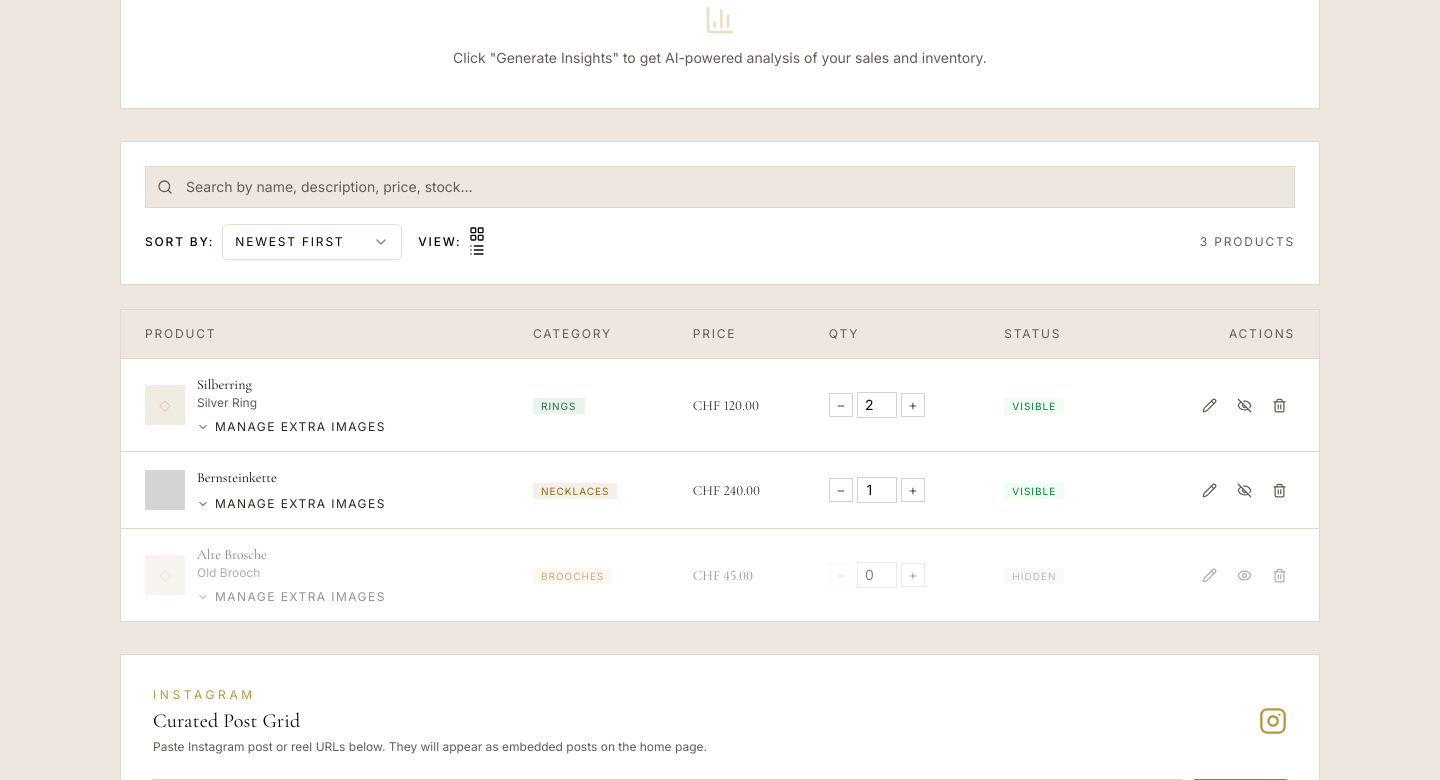
Test: Admin page — product row actions › commits a typed quantity on blur and rejects invalid input
The image size is (1440, 780).
(page scrolled)
Replace the text in the number field in the row of "Silver Ring" with "7" at (877, 405), box [857,392,897,418]
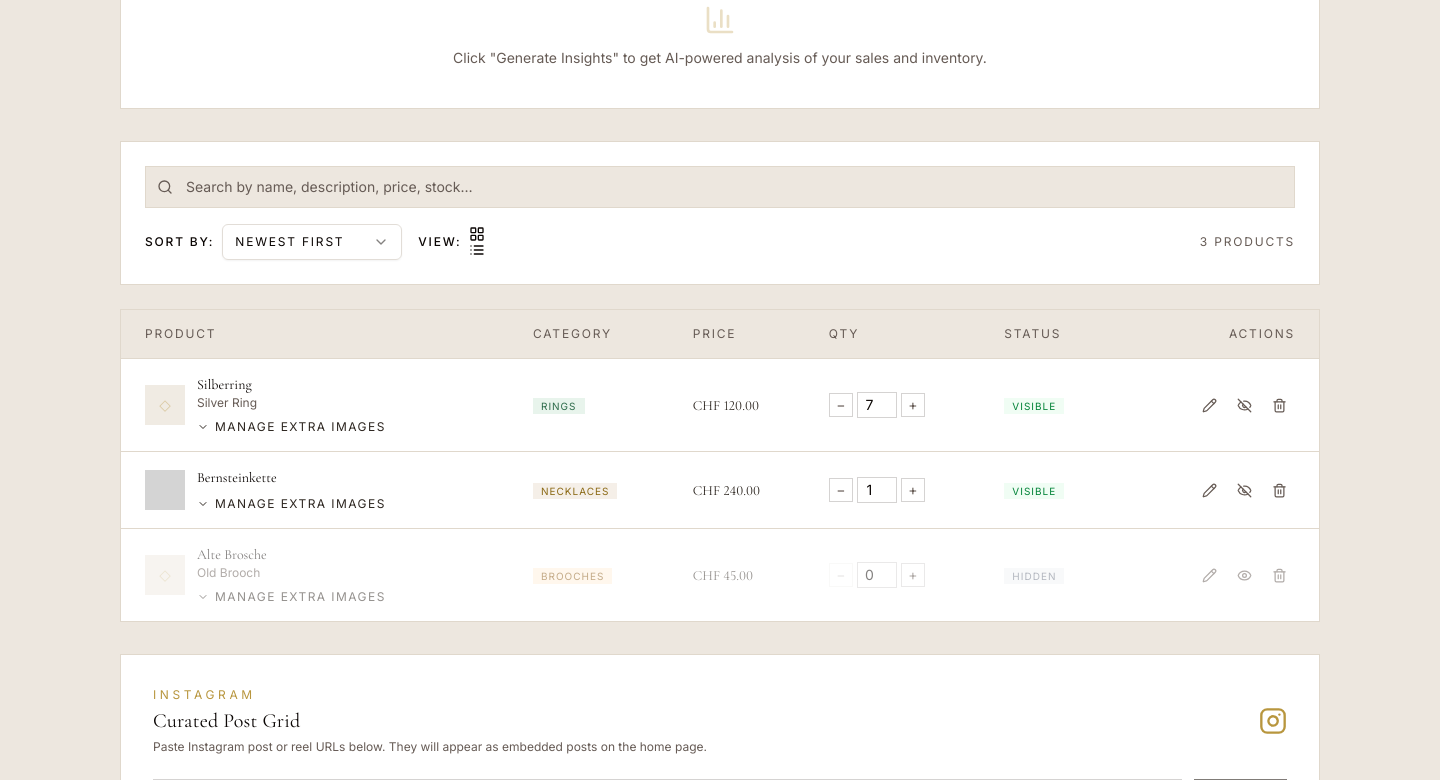
Replace the text in the number field in the row of "Silver Ring" with "-3" at (877, 405), box [857,392,897,418]
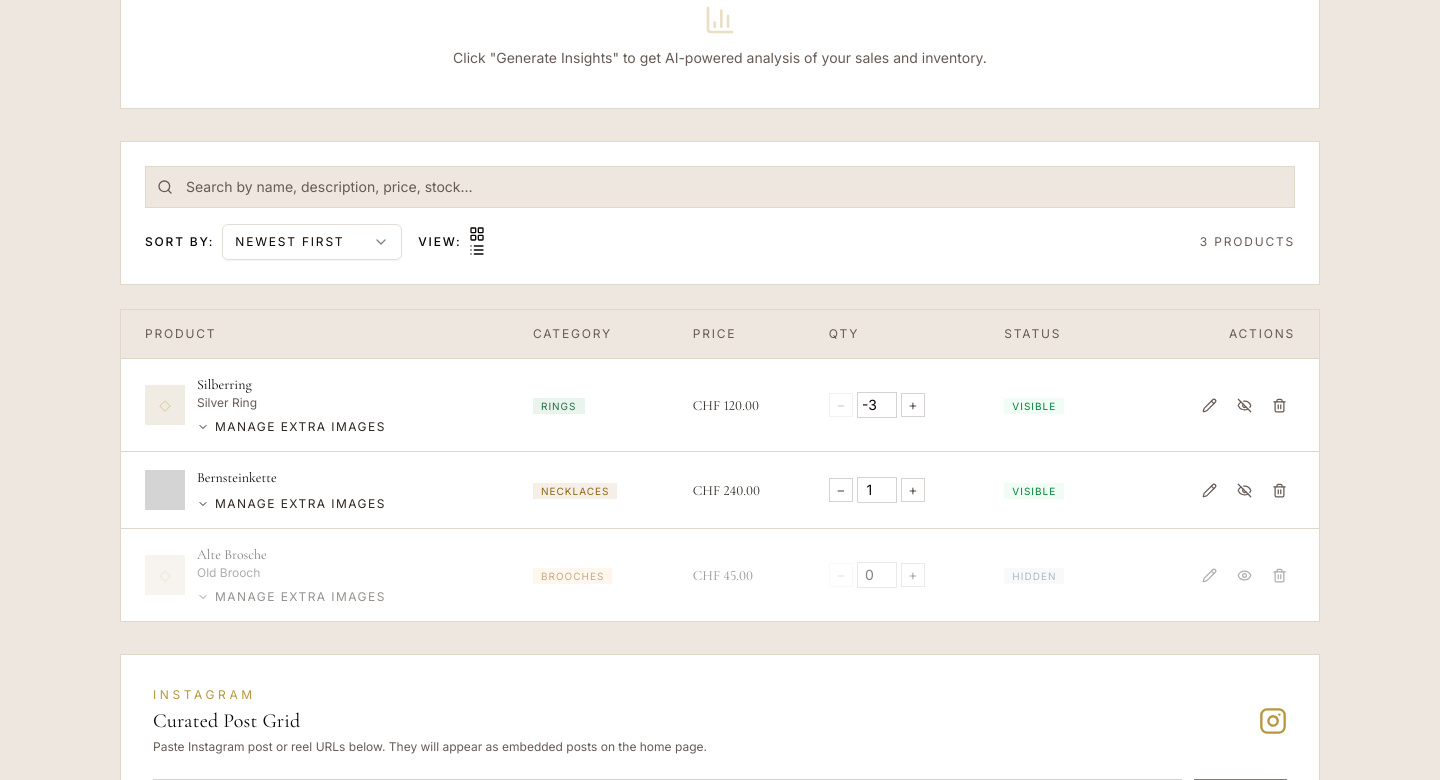
Leave the number field in the row of "Silver Ring", box [857,392,897,418]
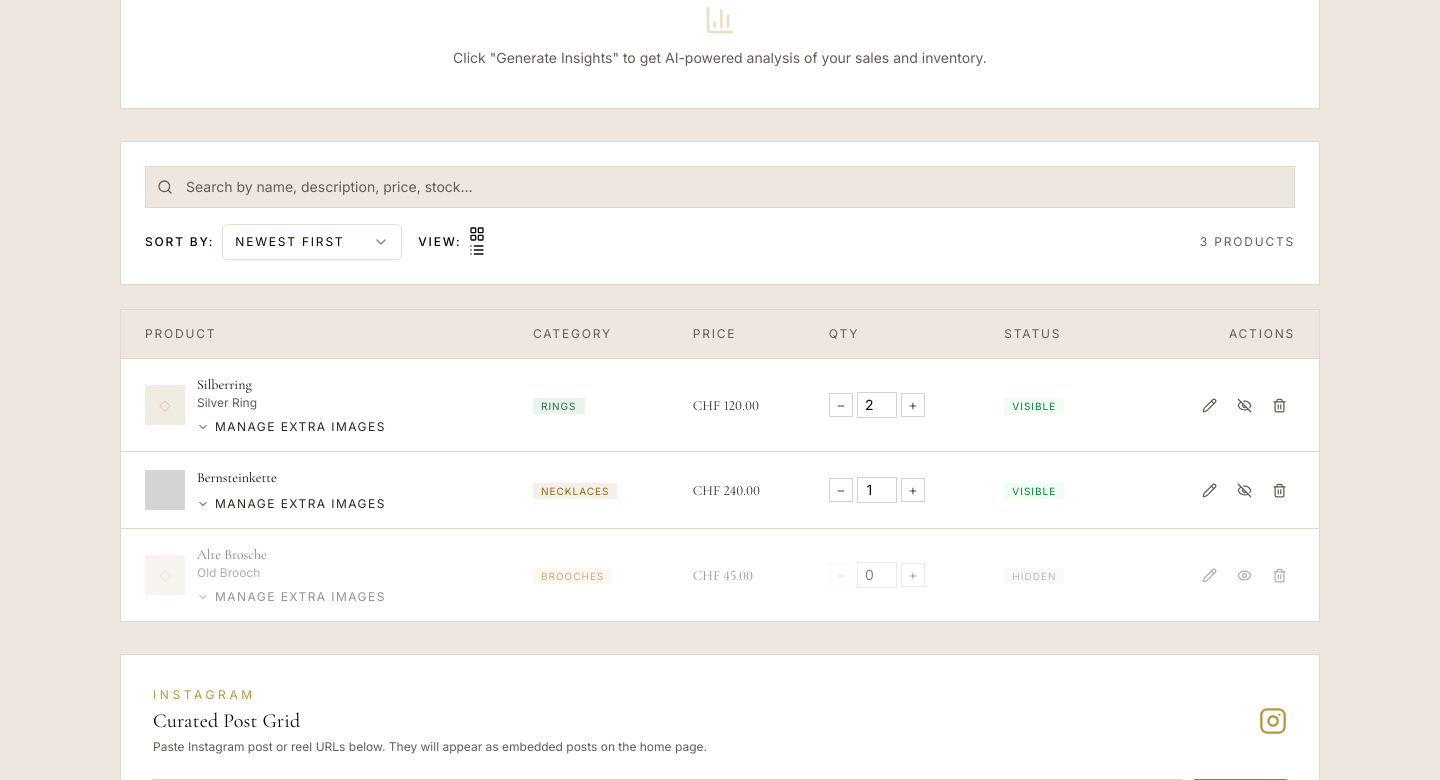
Result: the number field in the row of "Silver Ring" holds "2" at [857,392,897,418]
